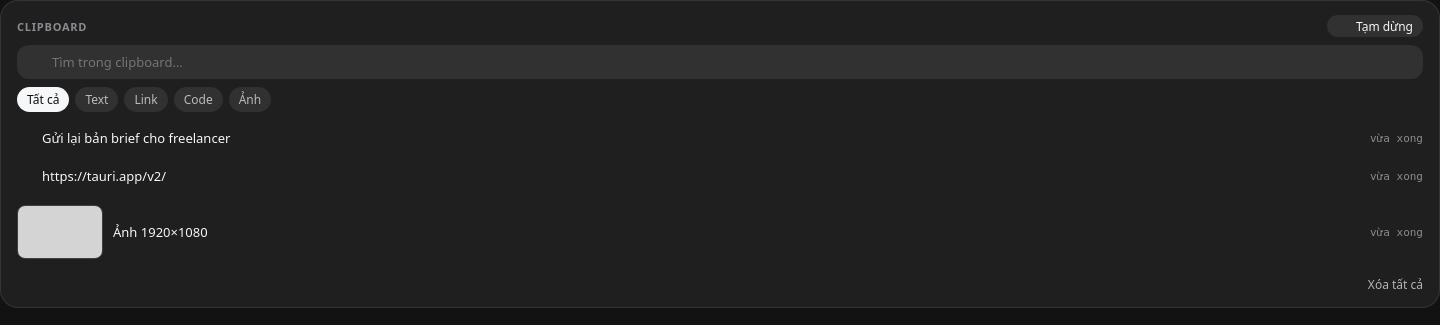
Test: ClipboardCard › turns recording off and shows that it is off
This screenshot has width=1440, height=325.
What coordinates should you click on to do the following:
click the button "Tạm dừng"
I would click on:
 (1375, 26)
Its box is [1327,15,1423,37].
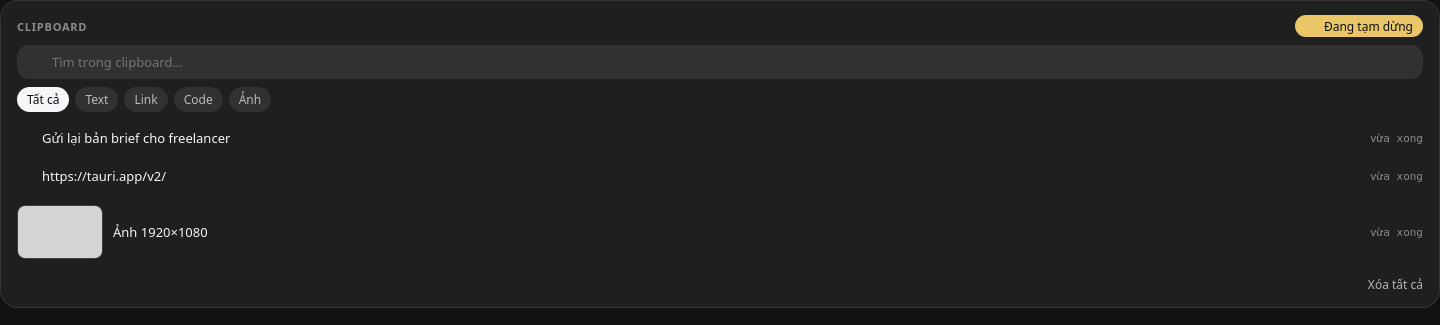
Now the button "Đang tạm dừng" is shown, box [1295,15,1423,37]
